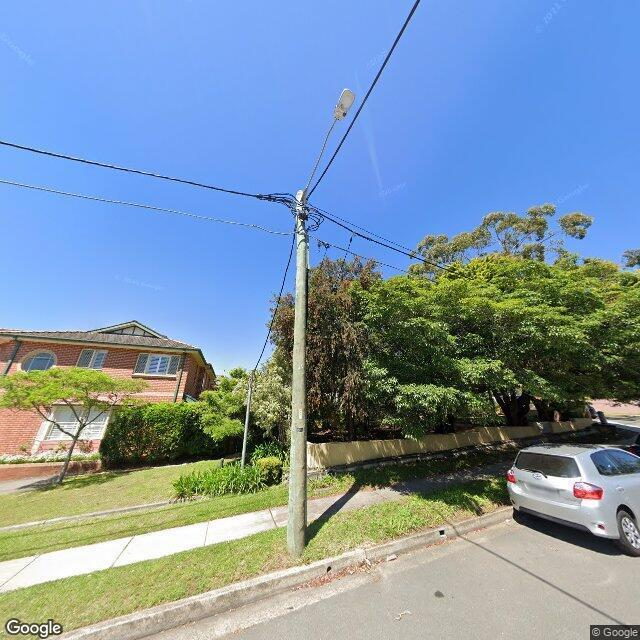steel-pole: (240, 370, 255, 468)
streetlight: (302, 89, 355, 204)
timber-pole: (286, 189, 308, 556)
